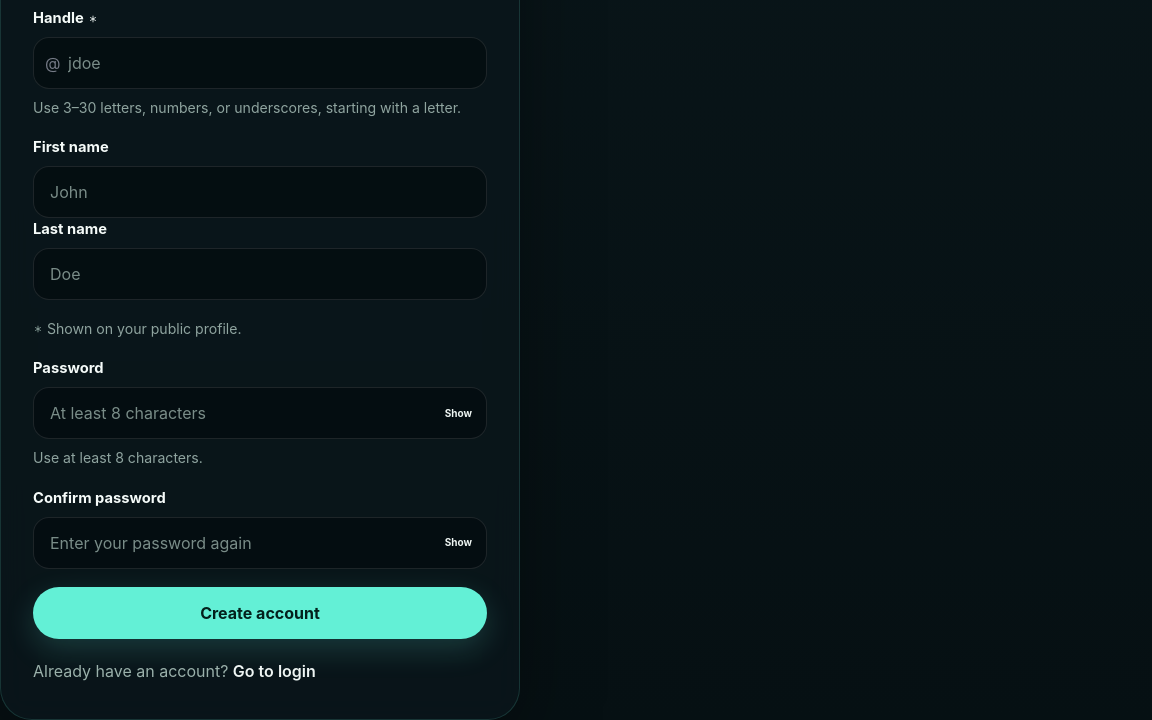
Test: RegisterPage › shows and hides the confirmation independently without submitting or changing either password
(page scrolled)
In the password field labelled "Password": (260, 413) [33, 387, 487, 439], type "secret-value"
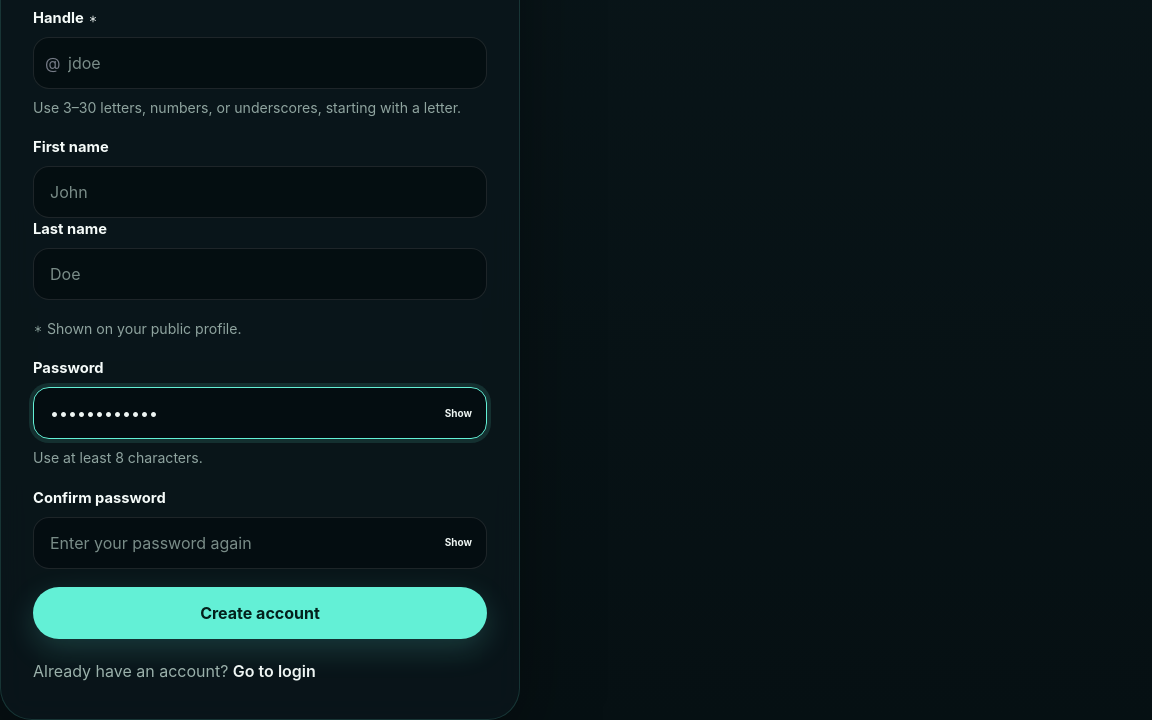
In the password field labelled "Confirm password": (260, 543) [33, 517, 487, 569], type "secret-value"
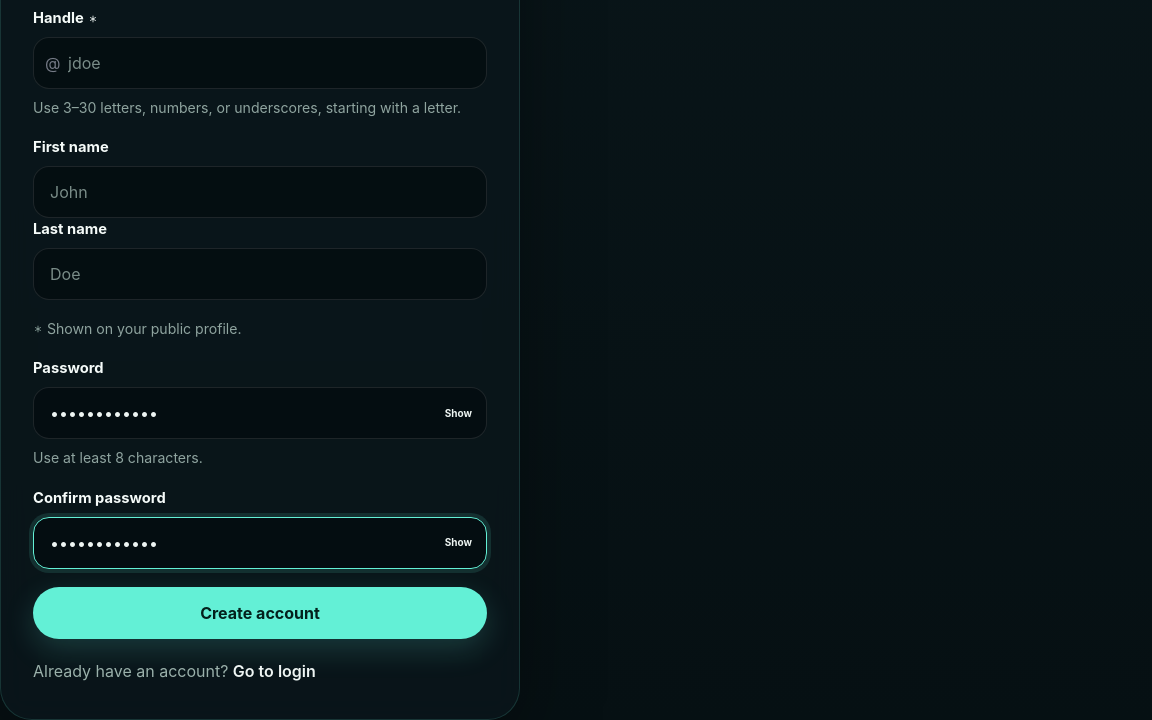
Click the button with aria-label "Show password confirmation": (458, 543) [438, 529, 479, 557]
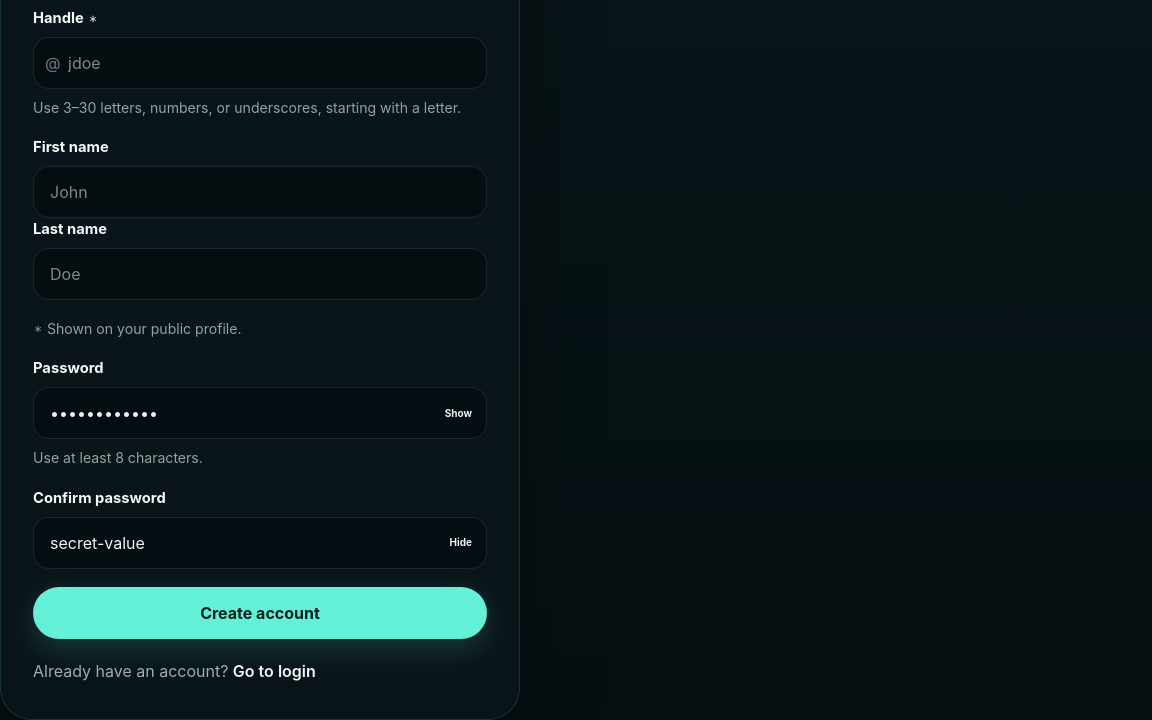
Check: the field labelled "Confirm password" shows its text, box [33, 517, 487, 569]
Click the button "Show": (458, 413) [438, 399, 479, 427]
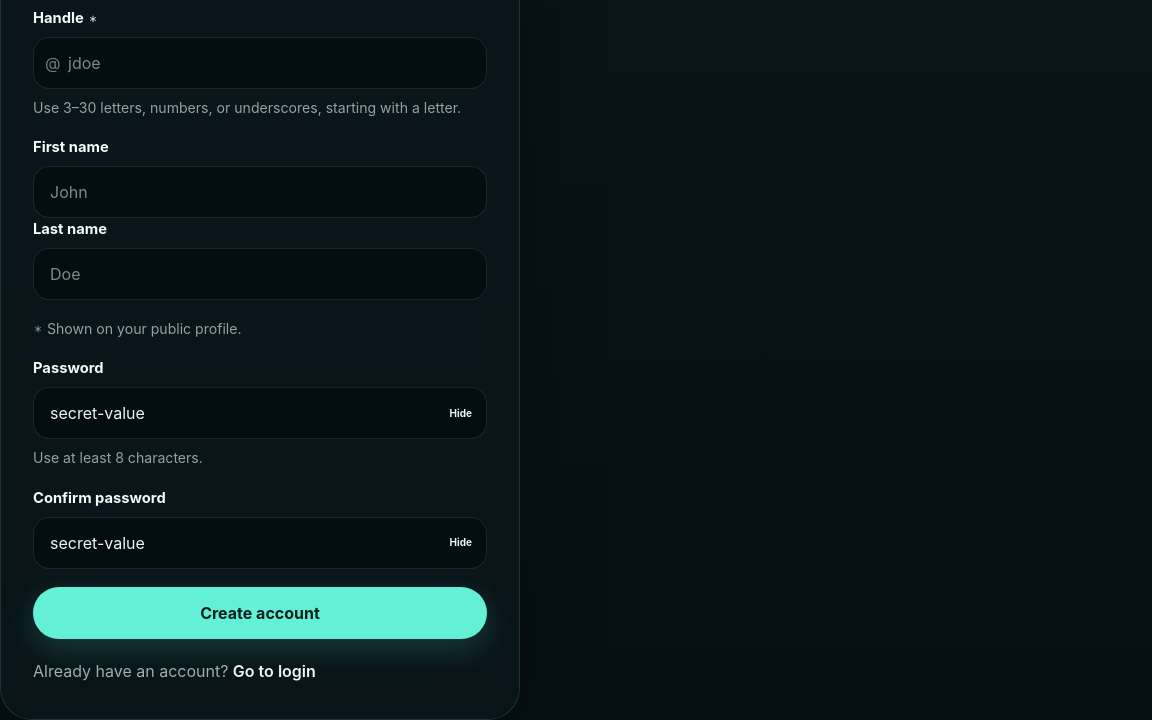
Check: the field labelled "Password" shows its text, box [33, 387, 487, 439]
Click the button with aria-label "Hide password confirmation": (461, 543) [442, 529, 479, 557]
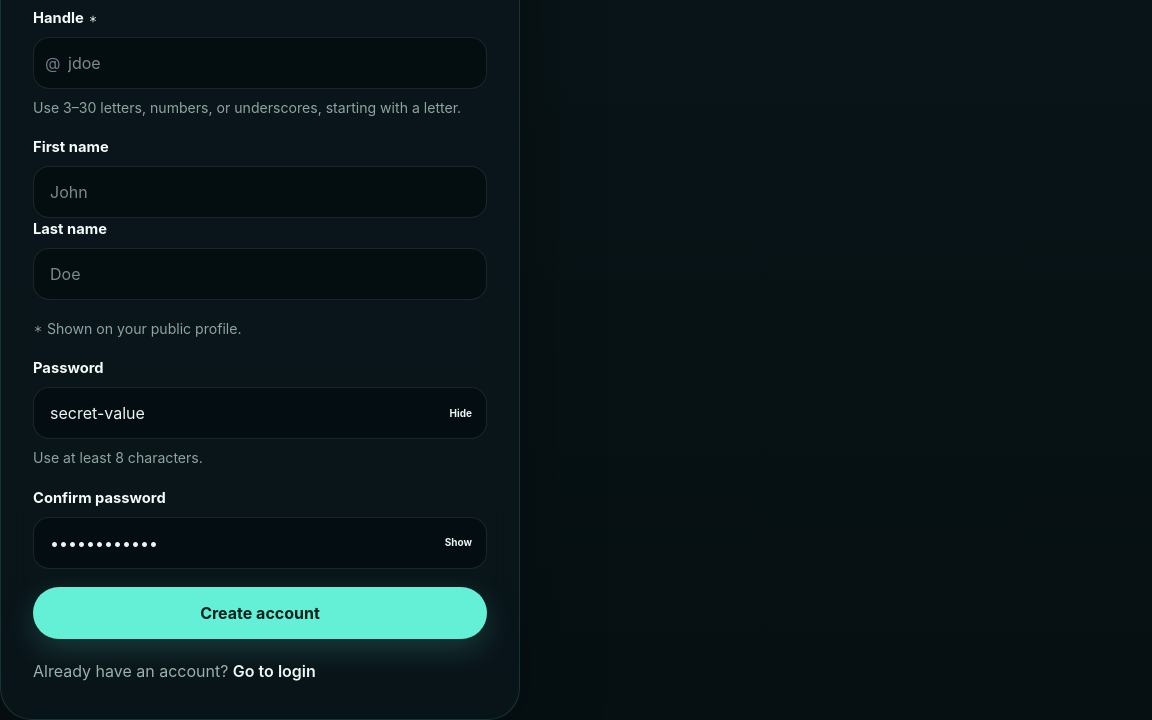
Check: the field labelled "Password" shows its text, box [33, 387, 487, 439]
Check: the password field labelled "Confirm password" hides its text, box [33, 517, 487, 569]
